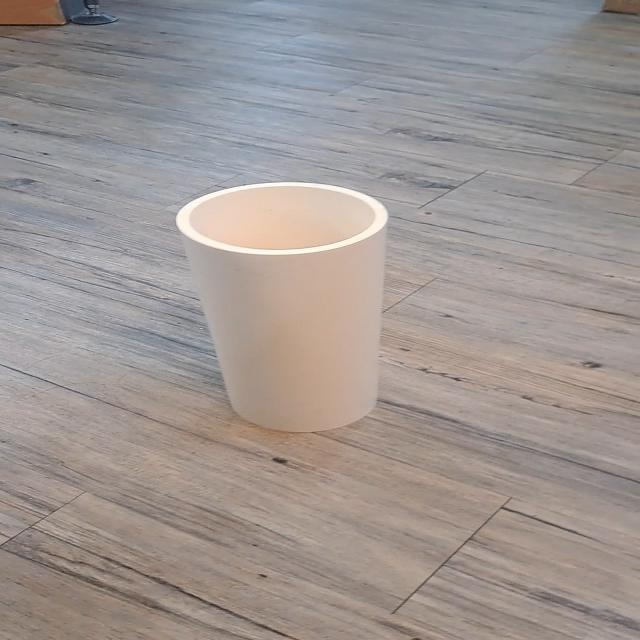CORAL: (154, 175, 452, 449)
